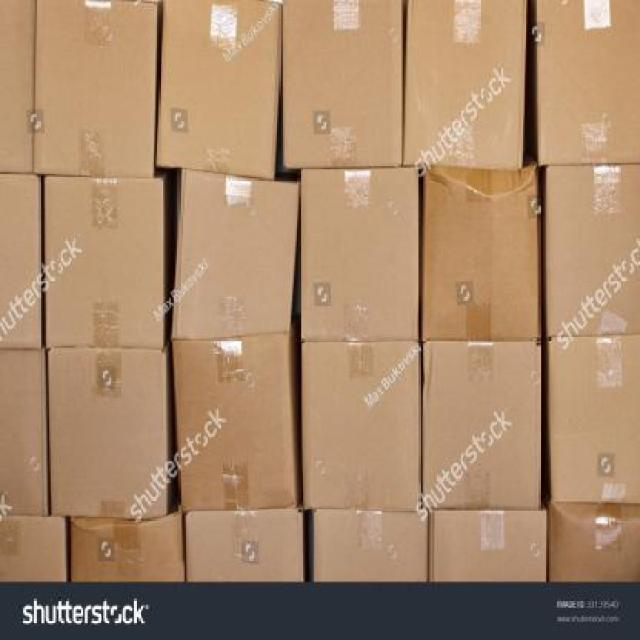BoxFace: (157, 1, 280, 181), (32, 0, 156, 177), (172, 338, 296, 512), (303, 336, 420, 518), (403, 0, 529, 168), (298, 169, 420, 342), (44, 178, 165, 350), (174, 169, 300, 334), (48, 346, 167, 519), (422, 340, 540, 512), (282, 0, 404, 166), (422, 168, 538, 340), (537, 0, 640, 160), (546, 164, 640, 336), (551, 331, 640, 500), (426, 508, 548, 578), (185, 512, 304, 583), (312, 514, 432, 584), (70, 514, 184, 582), (0, 350, 46, 518), (547, 500, 640, 582), (0, 175, 40, 348), (0, 0, 31, 174), (1, 516, 66, 581)
